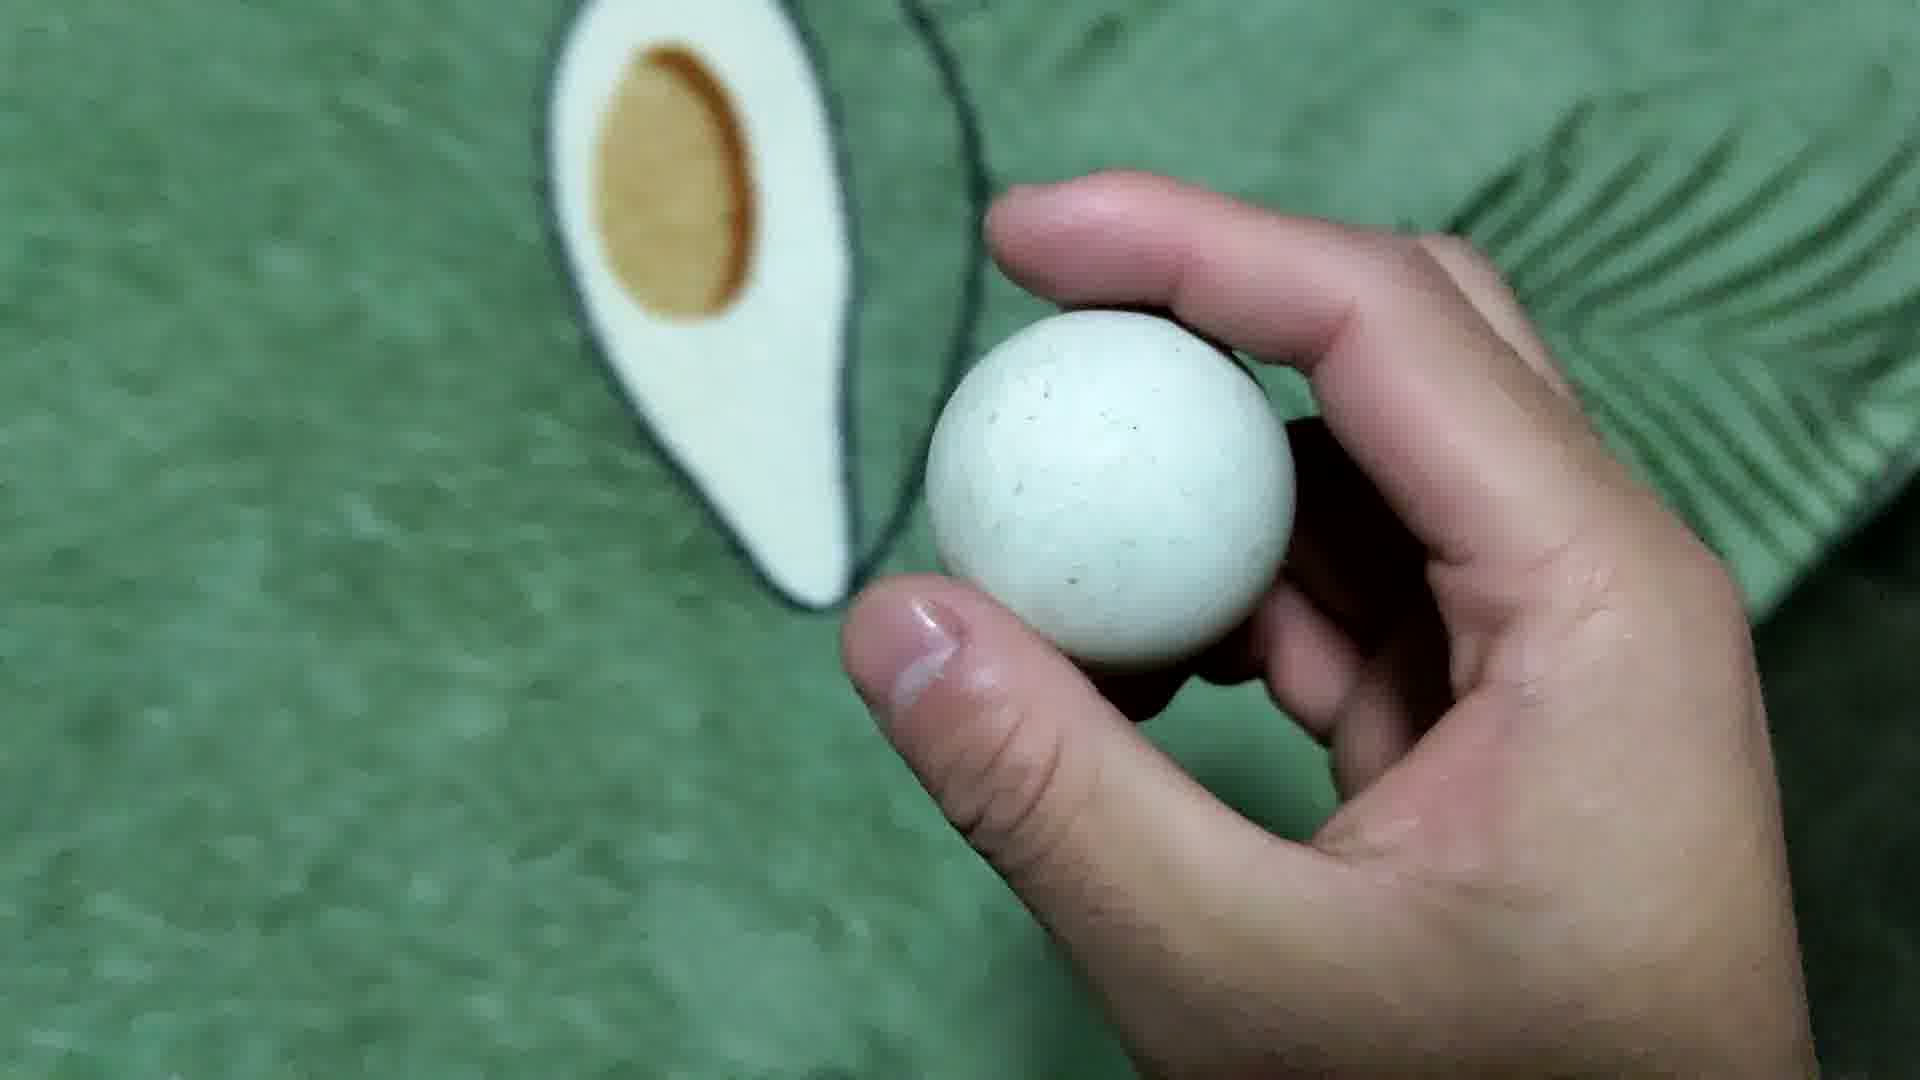Ball: (927, 301, 1302, 658)
